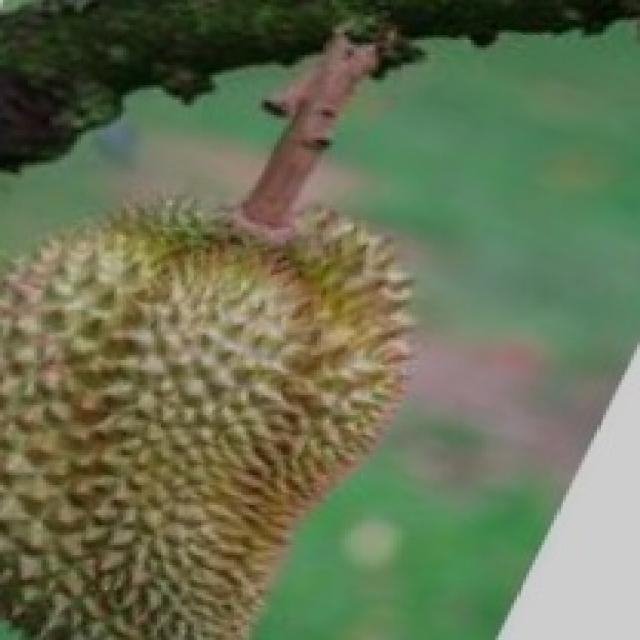fruit: (68, 180, 495, 638)
